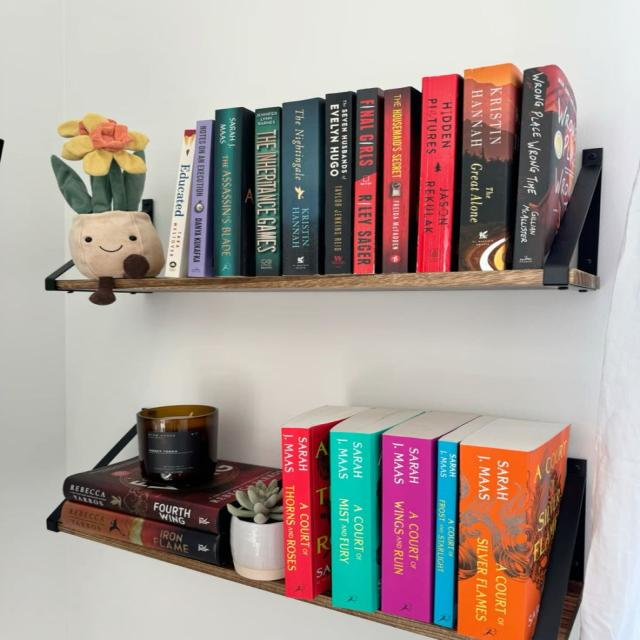book: (461, 443, 529, 640), (62, 500, 218, 562), (514, 65, 560, 269), (464, 70, 510, 270), (383, 434, 432, 618), (417, 74, 462, 271), (65, 479, 219, 530), (332, 431, 375, 610), (282, 98, 324, 275), (382, 87, 419, 273), (324, 91, 356, 274), (282, 429, 316, 597), (353, 88, 383, 274), (216, 110, 243, 276), (256, 107, 281, 275), (166, 130, 194, 277), (188, 121, 212, 275), (438, 440, 456, 630)
candle: (138, 405, 216, 489)
plants: (227, 480, 284, 579)
